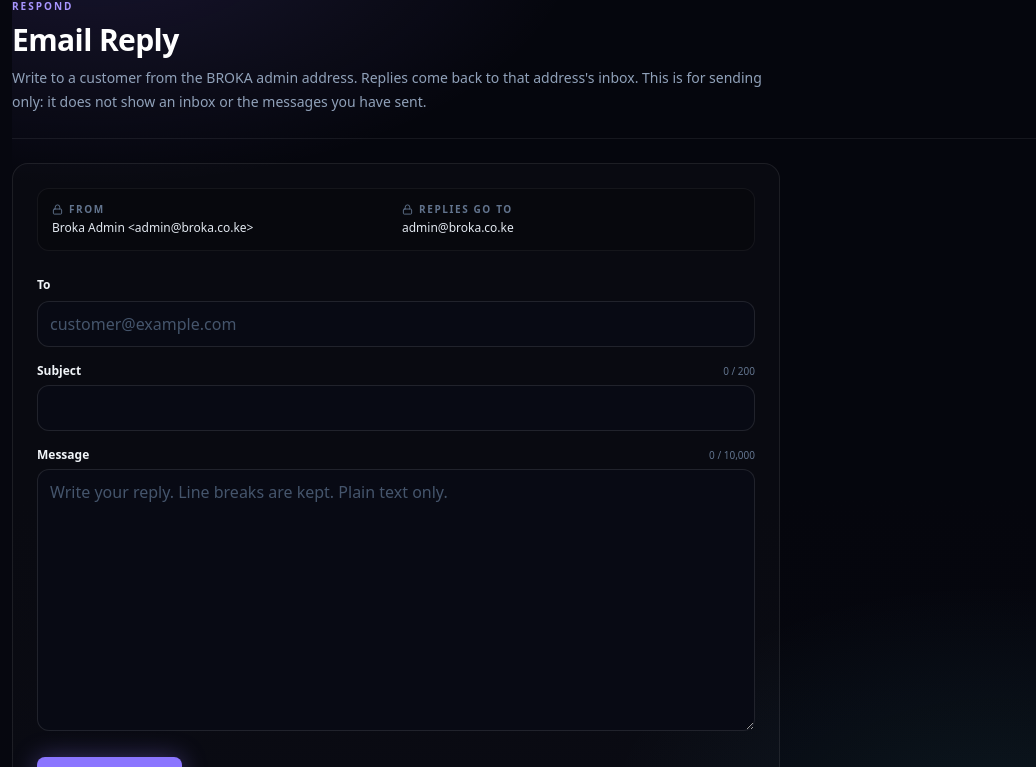
Scenario: EmailComposer › sends the trimmed fields with an idempotency key, shows progress, then confirms
Later steps or results of the test are not shown.
In the field labelled "To": {"x": 396, "y": 324} [37, 301, 755, 347], type "  wanjiru@example.com "
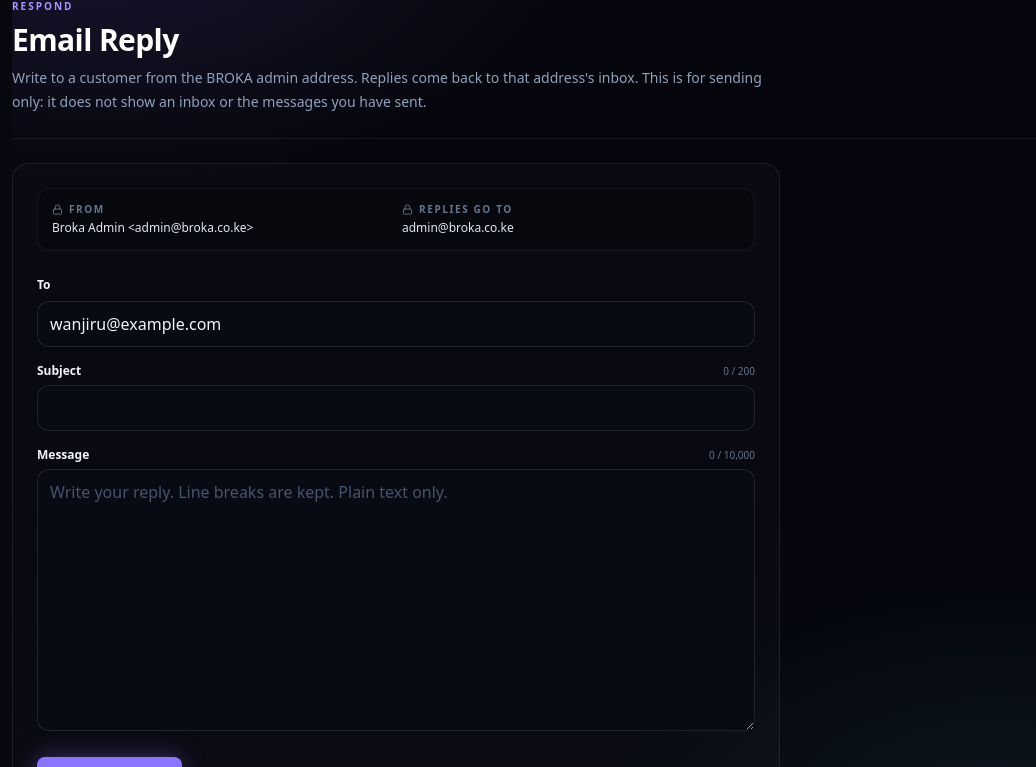
In the field labelled "Subject": {"x": 396, "y": 408} [37, 385, 755, 431], type " Re: your complaint "
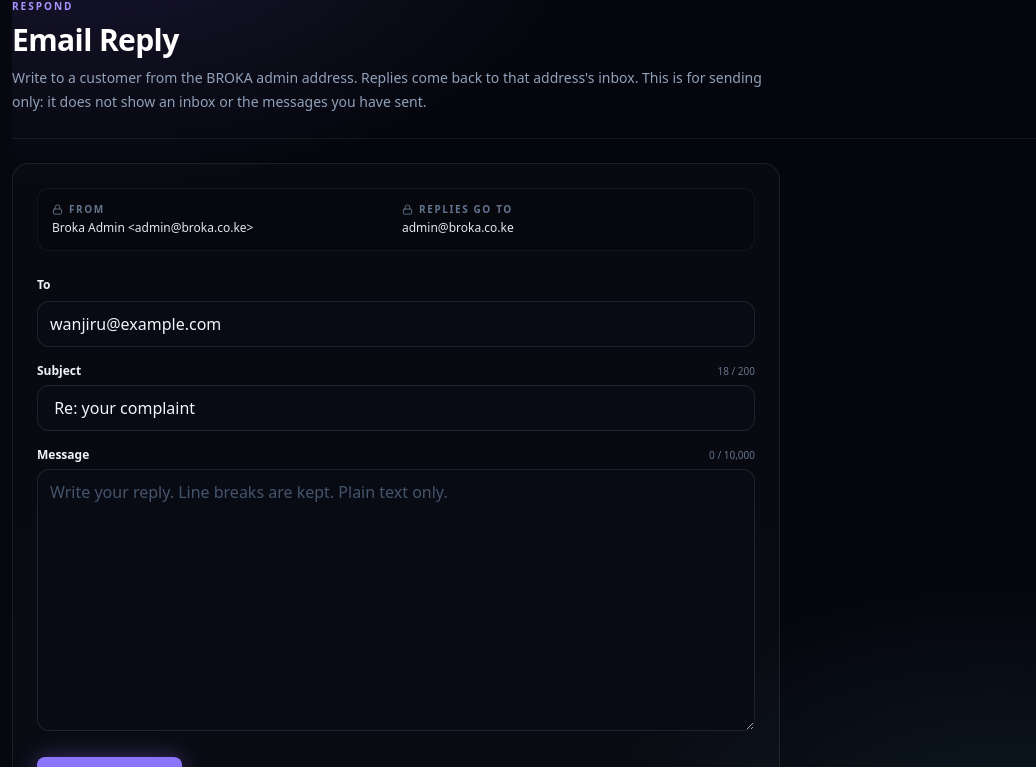
In the text box labelled "Message": {"x": 396, "y": 600} [37, 469, 755, 731], type "  Hello Wanjiru  "
(page scrolled)
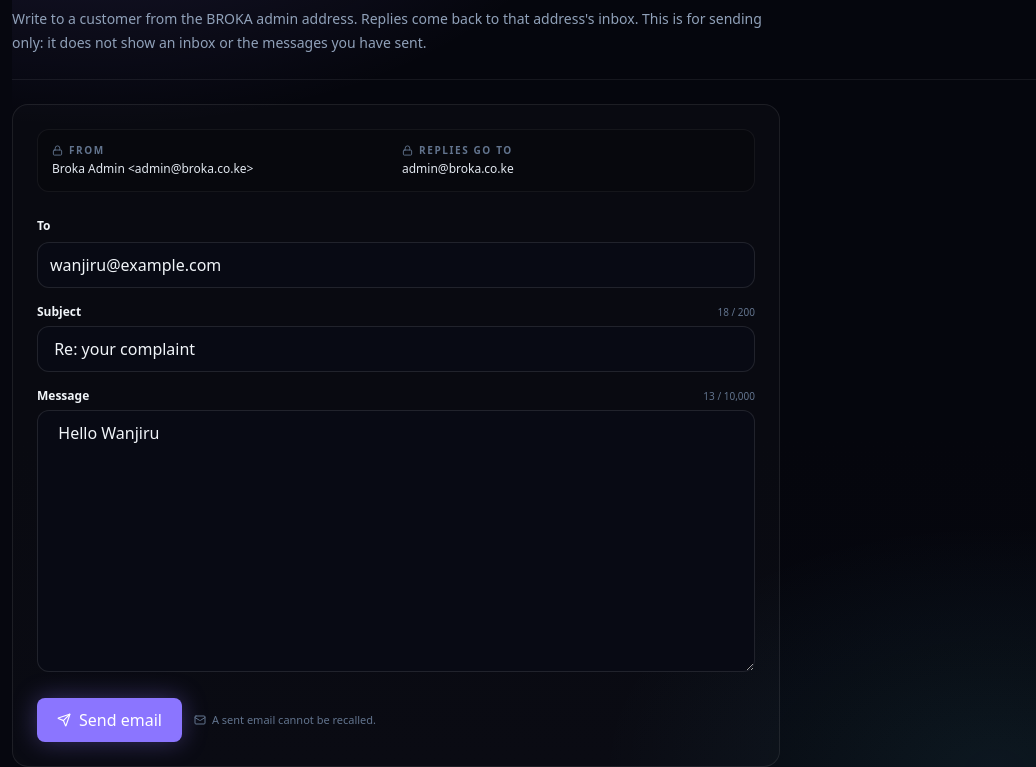
Submit the form named "Send an email"
(page scrolled)
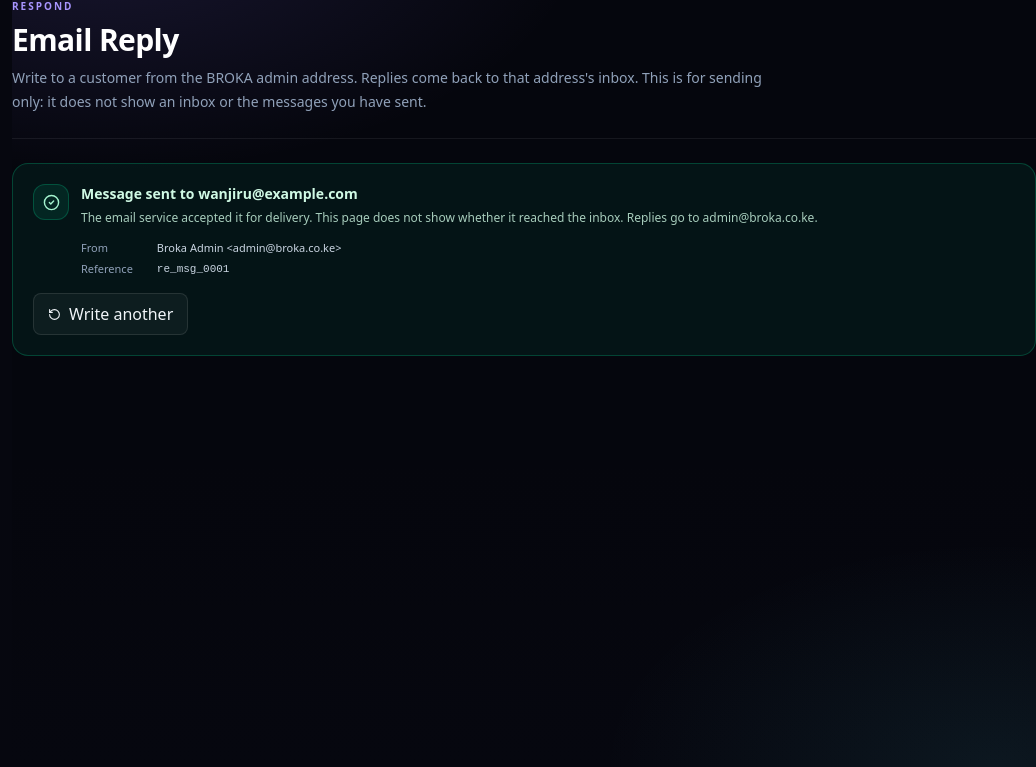
Now the message shows "Message sent to wanjiru@example.com", box [12, 163, 1035, 356]
Now the message shows "re_msg_0001", box [157, 262, 229, 274]
Now the message shows "Replies go to admin@broka.co.ke", box [12, 163, 1035, 356]
